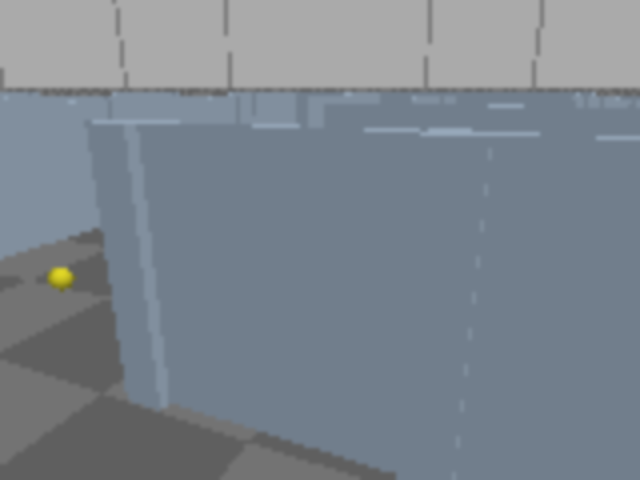puck: (41, 263, 81, 295)
